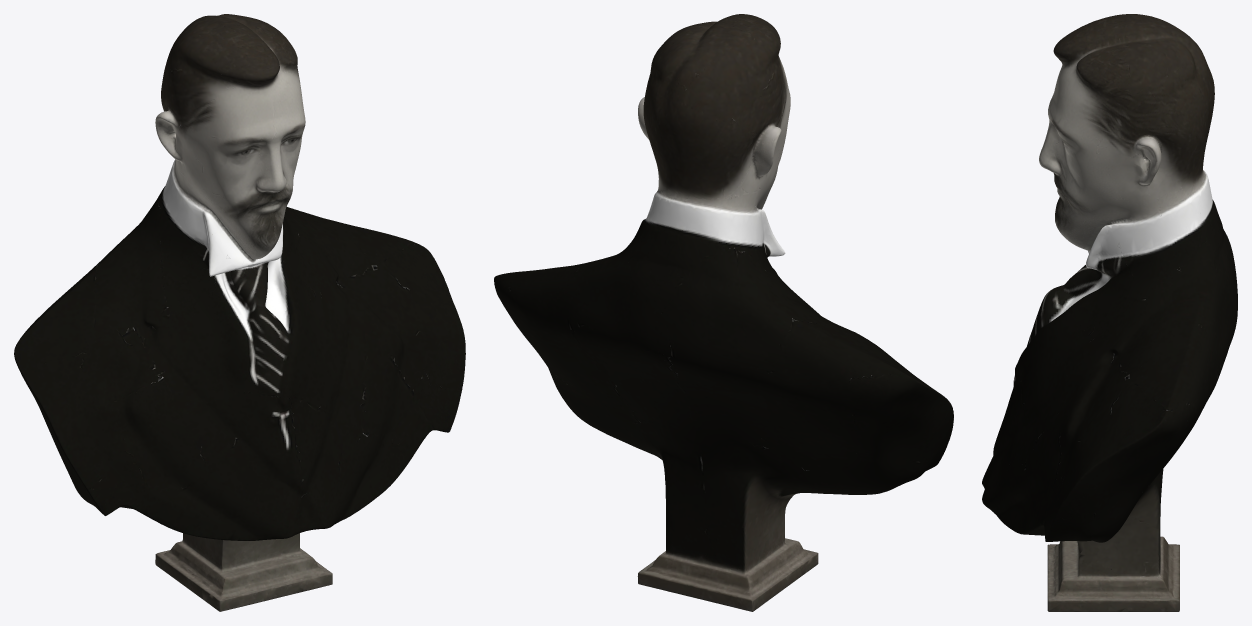
3 views of the same model, side by side, from view 1: azimuth 30°, elevation 25°; view 2: azimuth 150°, elevation 25°; view 3: azimuth 270°, elevation 25° (orthographic). The views are drawn at different scales.
Bounding box in the file's own units: 1.52 × 1.9 × 0.789.
1 material, 1 textured.
